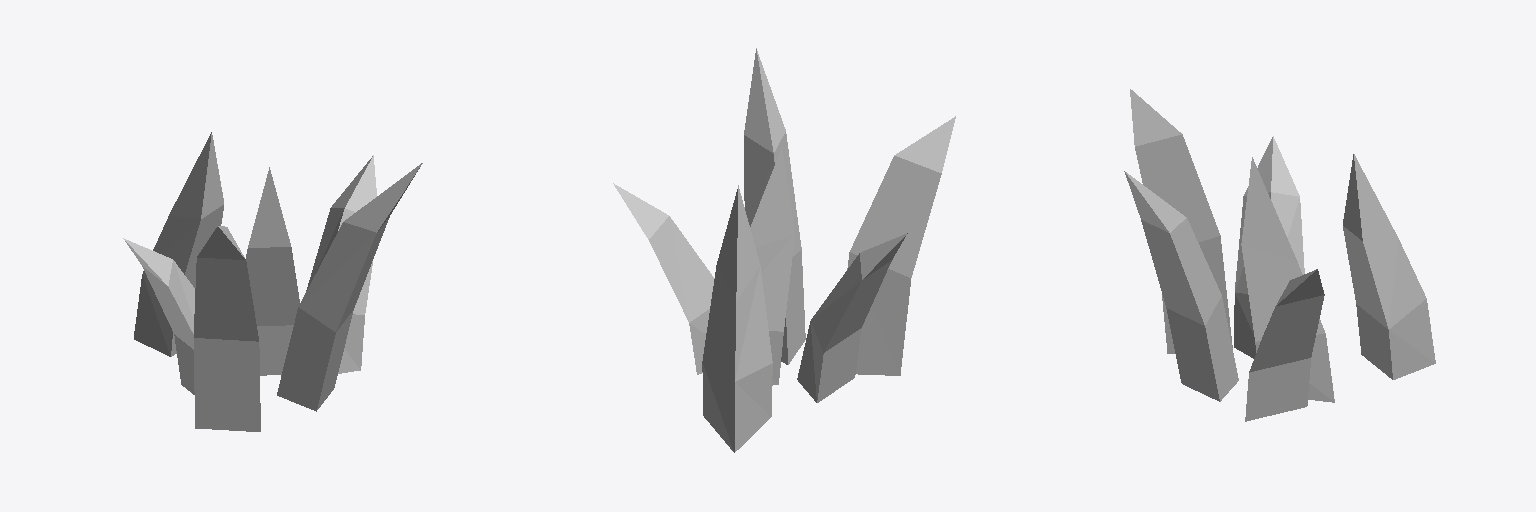
The model's file is grass_3.obj.
3 views of the same model, side by side, from view 1: azimuth 30°, elevation 25°; view 2: azimuth 150°, elevation 25°; view 3: azimuth 270°, elevation 25° (orthographic).
Parts seen in each view (by area): view 1: GrassBunch4; view 2: GrassBunch4; view 3: GrassBunch4.
Part boxes in pixels (bbox=[...]): GrassBunch4: bbox=[123, 132, 422, 431]; GrassBunch4: bbox=[613, 48, 955, 452]; GrassBunch4: bbox=[1124, 89, 1435, 421].
Bounding box in the file's own units: 1.25 × 1.13 × 1.24.